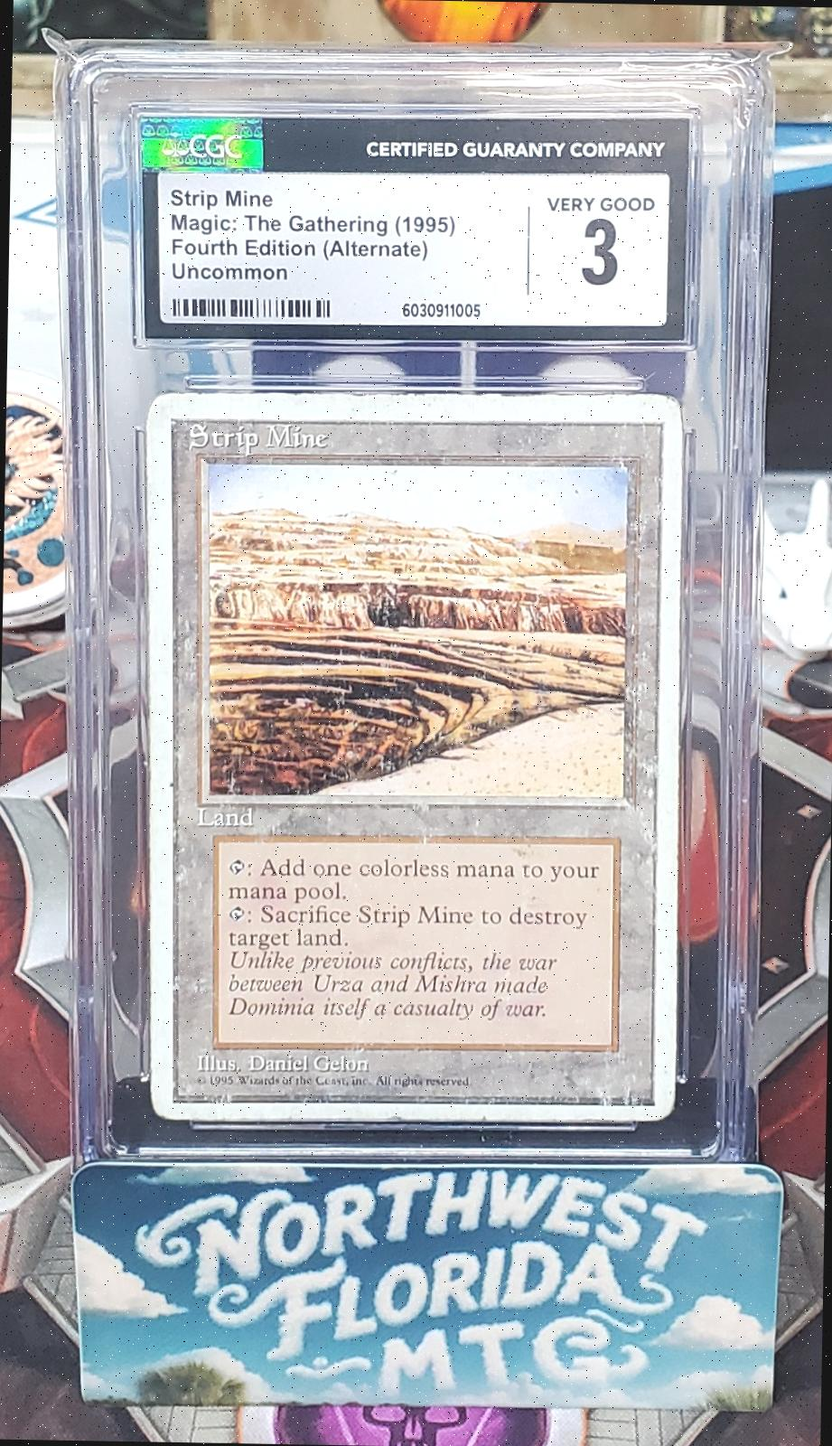card-2UtV: (145, 392, 682, 1121)
